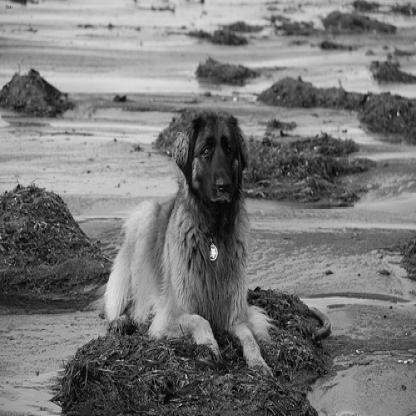Leonberger: (97, 92, 288, 381)
